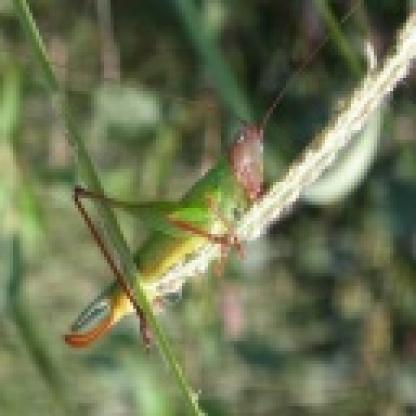grasshopper: (65, 115, 266, 357)
